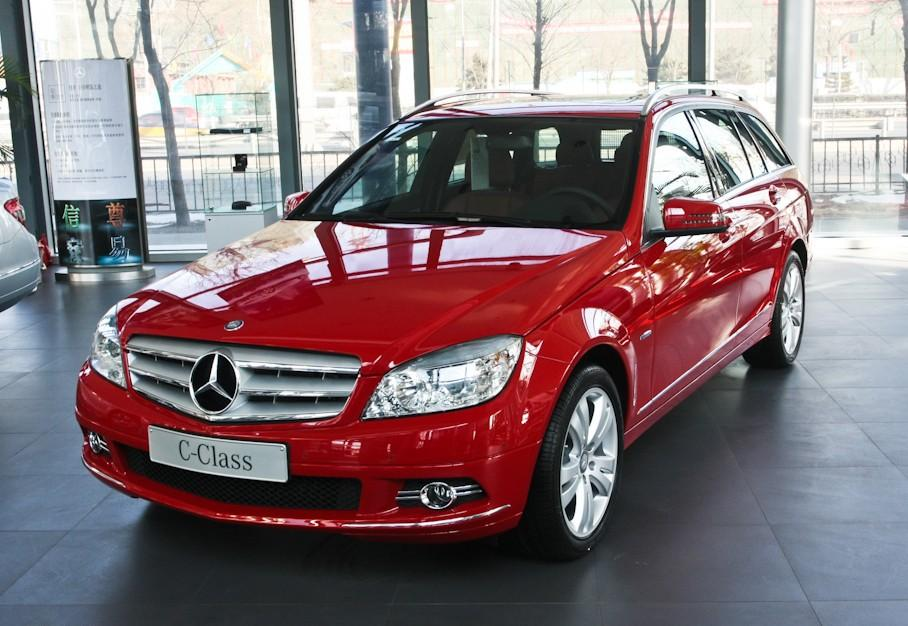Wagon: (75, 94, 814, 562)
